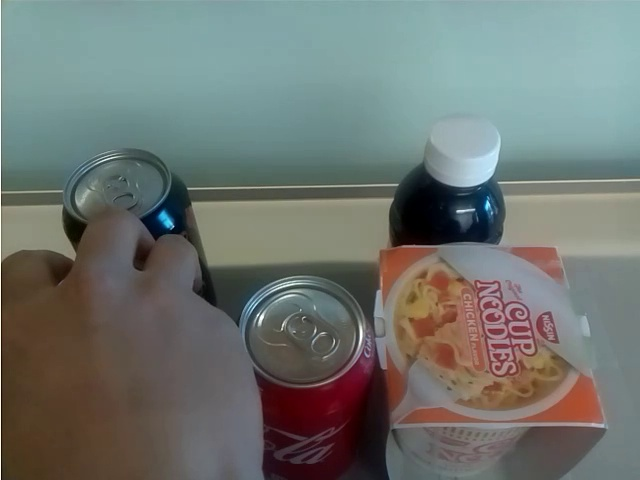cocacola: (240, 273, 372, 480)
cocacola-zero-shadow: (57, 142, 193, 228)
hand: (1, 214, 267, 480)
juice-shadow: (385, 106, 512, 244)
noodles: (378, 244, 613, 478)
